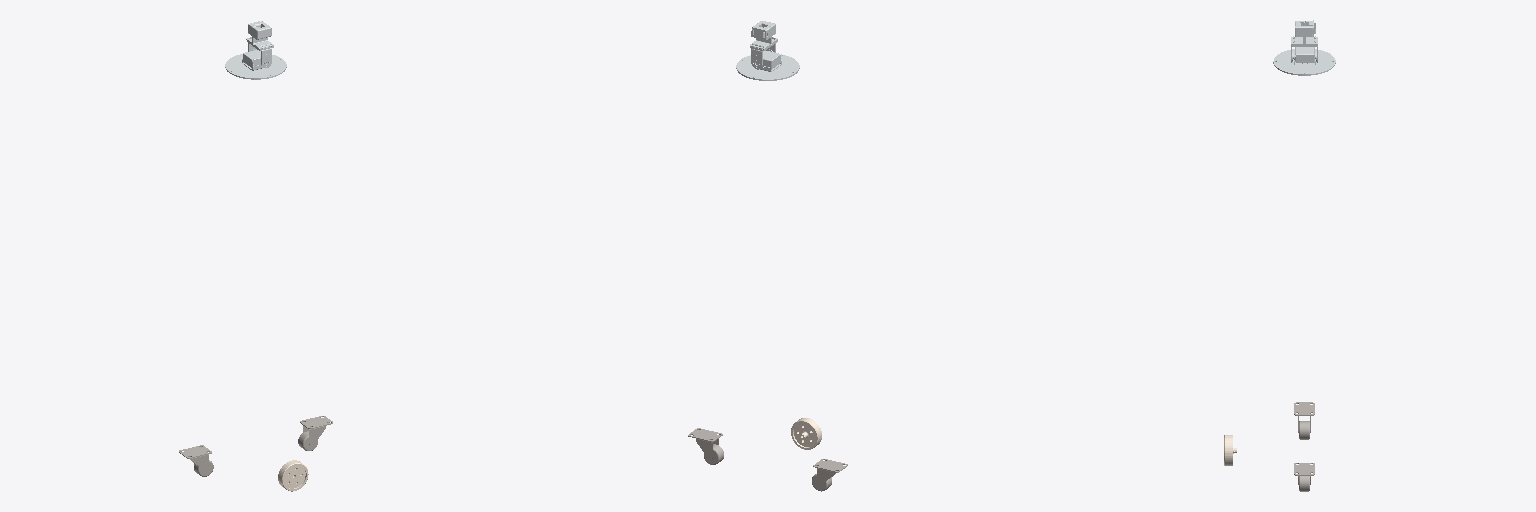
The robot description file, URDF, robot "stone_v3_base":
<robot
  name="stone_v3_base">
  <link
    name="base_link">
    <inertial>
      <origin
        xyz="-0.0011186 -4.317E-05 0.26842"
        rpy="0 0 0" />
      <mass
        value="9.7333" />
      <inertia
        ixx="0.86739"
        ixy="0"
        ixz="0"
        iyy="0.8309"
        iyz="0"
        izz="0.1541" />
    </inertial>
    <visual>
      <origin
        xyz="0 0 0"
        rpy="0 0 0" />
      <geometry>
        <mesh
          filename="package://handsfree_gazebo/urdf_stone_v3/meshes/base_link.STL" />
      </geometry>
      <material
        name="">
        <color
          rgba="0.33333 0.33333 0.33333 1" />
      </material>
    </visual>
    <collision>
      <origin
        xyz="0 0 0"
        rpy="0 0 0" />
      <geometry>
        <mesh
          filename="package://handsfree_gazebo/urdf_stone_v3/meshes/base_link.STL" />
      </geometry>
    </collision>
  </link>
  <link
    name="wheel_left_link">
    <inertial>
      <origin
        xyz="3.1631E-06 -7.2374E-08 -0.00032962"
        rpy="0 0 0" />
      <mass
        value="0.15338" />
      <inertia
        ixx="4.7342E-05"
        ixy="0"
        ixz="0"
        iyy="4.734E-05"
        iyz="0"
        izz="8.8619E-05" />
    </inertial>
    <visual>
      <origin
        xyz="0 0 0"
        rpy="0 0 0" />
      <geometry>
        <mesh
          filename="package://handsfree_gazebo/urdf_stone_v3/meshes/wheel_left_link.STL" />
      </geometry>
      <material
        name="">
        <color
          rgba="1 0.94902 0.89804 1" />
      </material>
    </visual>
    <collision>
      <origin
        xyz="0 0 0"
        rpy="0 0 0" />
      <geometry>
        <mesh
          filename="package://handsfree_gazebo/urdf_stone_v3/meshes/wheel_left_link.STL" />
      </geometry>
    </collision>
  </link>
  <joint
    name="wheel_left_joint"
    type="continuous">
    <origin
      xyz="0 0.1557 0.0124"
      rpy="-1.5708 0 0" />
    <parent
      link="base_link" />
    <child
      link="wheel_left_link" />
    <axis
      xyz="0 0 1" />
  </joint>
  <link
    name="wheel_right_link">
    <inertial>
      <origin
        xyz="-3.1631E-06 -7.2862E-08 -0.00032962"
        rpy="0 0 0" />
      <mass
        value="0.15338" />
      <inertia
        ixx="4.7342E-05"
        ixy="0"
        ixz="0"
        iyy="4.734E-05"
        iyz="0"
        izz="8.8619E-05" />
    </inertial>
    <visual>
      <origin
        xyz="0 0 0"
        rpy="0 0 0" />
      <geometry>
        <mesh
          filename="package://handsfree_gazebo/urdf_stone_v3/meshes/wheel_right_link.STL" />
      </geometry>
      <material
        name="">
        <color
          rgba="1 0.94902 0.89804 1" />
      </material>
    </visual>
    <collision>
      <origin
        xyz="0 0 0"
        rpy="0 0 0" />
      <geometry>
        <mesh
          filename="package://handsfree_gazebo/urdf_stone_v3/meshes/wheel_right_link.STL" />
      </geometry>
    </collision>
  </link>
  <joint
    name="wheel_right_joint"
    type="continuous">
    <origin
      xyz="0 -0.1557 0.0124"
      rpy="1.5708 0 0" />
    <parent
      link="base_link" />
    <child
      link="wheel_right_link" />
    <axis
      xyz="0 0 -1" />
  </joint>
  <link
    name="caster_front_link">
    <inertial>
      <origin
        xyz="0.0048088 0.0096311 8.3348E-16"
        rpy="0 0 0" />
      <mass
        value="0.29097" />
      <inertia
        ixx="0.00010851"
        ixy="0"
        ixz="0"
        iyy="7.011E-05"
        iyz="0"
        izz="0.00013847" />
    </inertial>
    <visual>
      <origin
        xyz="0 0 0"
        rpy="0 0 0" />
      <geometry>
        <mesh
          filename="package://handsfree_gazebo/urdf_stone_v3/meshes/caster_front_link.STL" />
      </geometry>
      <material
        name="">
        <color
          rgba="0.77647 0.75686 0.73725 1" />
      </material>
    </visual>
    <collision>
      <origin
        xyz="0 0 0"
        rpy="0 0 0" />
      <geometry>
        <mesh
          filename="package://handsfree_gazebo/urdf_stone_v3/meshes/caster_front_link.STL" />
      </geometry>
    </collision>
  </link>
  <joint
    name="caster_front_joint"
    type="floating">
    <origin
      xyz="0.126 0 -0.0006"
      rpy="1.5708 0 0" />
    <parent
      link="base_link" />
    <child
      link="caster_front_link" />
    <axis
      xyz="0 0 0" />
  </joint>
  <link
    name="caster_back_link">
    <inertial>
      <origin
        xyz="-0.0048088 0.0096311 8.3433E-16"
        rpy="0 0 0" />
      <mass
        value="0.29097" />
      <inertia
        ixx="0.00010851"
        ixy="0"
        ixz="0"
        iyy="7.011E-05"
        iyz="0"
        izz="0.00013847" />
    </inertial>
    <visual>
      <origin
        xyz="0 0 0"
        rpy="0 0 0" />
      <geometry>
        <mesh
          filename="package://handsfree_gazebo/urdf_stone_v3/meshes/caster_back_link.STL" />
      </geometry>
      <material
        name="">
        <color
          rgba="0.77647 0.75686 0.73725 1" />
      </material>
    </visual>
    <collision>
      <origin
        xyz="0 0 0"
        rpy="0 0 0" />
      <geometry>
        <mesh
          filename="package://handsfree_gazebo/urdf_stone_v3/meshes/caster_back_link.STL" />
      </geometry>
    </collision>
  </link>
  <joint
    name="caster_back_joint"
    type="floating">
    <origin
      xyz="-0.126 0 -0.0006"
      rpy="1.5708 0 0" />
    <parent
      link="base_link" />
    <child
      link="caster_back_link" />
    <axis
      xyz="0 0 0" />
  </joint>
  <link
    name="laser_link">
    <inertial>
      <origin
        xyz="-0.00012709 4.6538E-05 -0.011453"
        rpy="0 0 0" />
      <mass
        value="0.13632" />
      <inertia
        ixx="7.1499E-05"
        ixy="0"
        ixz="0"
        iyy="7.1883E-05"
        iyz="0"
        izz="4.6678E-05" />
    </inertial>
    <visual>
      <origin
        xyz="0 0 0"
        rpy="0 0 0" />
      <geometry>
        <mesh
          filename="package://handsfree_gazebo/urdf_stone_v3/meshes/laser_link.STL" />
      </geometry>
      <material
        name="">
        <color
          rgba="1 1 1 1" />
      </material>
    </visual>
    <collision>
      <origin
        xyz="0 0 0"
        rpy="0 0 0" />
      <geometry>
        <mesh
          filename="package://handsfree_gazebo/urdf_stone_v3/meshes/laser_link.STL" />
      </geometry>
    </collision>
  </link>
  <joint
    name="laser_joint"
    type="fixed">
    <origin
      xyz="0.145 0 0.14203"
      rpy="0 0 0" />
    <parent
      link="base_link" />
    <child
      link="laser_link" />
    <axis
      xyz="0 0 0" />
  </joint>
  <link
    name="yaw_link">
    <inertial>
      <origin
        xyz="8.5422E-05 0.0001613 0.0023545"
        rpy="0 0 0" />
      <mass
        value="0.15082" />
      <inertia
        ixx="0.00012558"
        ixy="0"
        ixz="0"
        iyy="0.00012402"
        iyz="0"
        izz="0.00023372" />
    </inertial>
    <visual>
      <origin
        xyz="0 0 0"
        rpy="0 0 0" />
      <geometry>
        <mesh
          filename="package://handsfree_gazebo/urdf_stone_v3/meshes/yaw_link.STL" />
      </geometry>
      <material
        name="">
        <color
          rgba="0.89804 0.91765 0.92941 1" />
      </material>
    </visual>
    <collision>
      <origin
        xyz="0 0 0"
        rpy="0 0 0" />
      <geometry>
        <mesh
          filename="package://handsfree_gazebo/urdf_stone_v3/meshes/yaw_link.STL" />
      </geometry>
    </collision>
  </link>
  <joint
    name="yaw_joint"
    type="revolute">
    <origin
      xyz="0 0 0.894"
      rpy="0 0 0" />
    <parent
      link="base_link" />
    <child
      link="yaw_link" />
    <axis
      xyz="0 0 1" />
    <limit
      effort="0"
      velocity="0" />
  </joint>
  <link
    name="pitch_link">
    <inertial>
      <origin
        xyz="-0.00024079 -0.041896 -9.1768E-05"
        rpy="0 0 0" />
      <mass
        value="0.06208" />
      <inertia
        ixx="4.7571E-05"
        ixy="0"
        ixz="0"
        iyy="2.3344E-05"
        iyz="0"
        izz="3.516E-05" />
    </inertial>
    <visual>
      <origin
        xyz="0 0 0"
        rpy="0 0 0" />
      <geometry>
        <mesh
          filename="package://handsfree_gazebo/urdf_stone_v3/meshes/pitch_link.STL" />
      </geometry>
      <material
        name="">
        <color
          rgba="0.89804 0.91765 0.92941 1" />
      </material>
    </visual>
    <collision>
      <origin
        xyz="0 0 0"
        rpy="0 0 0" />
      <geometry>
        <mesh
          filename="package://handsfree_gazebo/urdf_stone_v3/meshes/pitch_link.STL" />
      </geometry>
    </collision>
  </link>
  <joint
    name="pitch_joint"
    type="revolute">
    <origin
      xyz="0.01 5E-05 0.01475"
      rpy="-1.5708 0 0" />
    <parent
      link="yaw_link" />
    <child
      link="pitch_link" />
    <axis
      xyz="0 0 1" />
    <limit
      effort="0"
      velocity="0" />
  </joint>
  <link
    name="xtion_link">
    <inertial>
      <origin
        xyz="-0.017766 1.5798E-06 -0.00017508"
        rpy="0 0 0" />
      <mass
        value="0.15757" />
      <inertia
        ixx="0.00039792"
        ixy="0"
        ixz="0"
        iyy="2.4687E-05"
        iyz="0"
        izz="0.00040604" />
    </inertial>
    <visual>
      <origin
        xyz="0 0 0"
        rpy="0 0 0" />
      <geometry>
        <mesh
          filename="package://handsfree_gazebo/urdf_stone_v3/meshes/xtion_link.STL" />
      </geometry>
      <material
        name="">
        <color
          rgba="0.33333 0.33333 0.33333 1" />
      </material>
    </visual>
    <collision>
      <origin
        xyz="0 0 0"
        rpy="0 0 0" />
      <geometry>
        <mesh
          filename="package://handsfree_gazebo/urdf_stone_v3/meshes/xtion_link.STL" />
      </geometry>
    </collision>
  </link>
  <joint
    name="xtion_joint"
    type="fixed">
    <origin
      xyz="0.0181 -0.08706 0.00011573"
      rpy="1.5708 0 0" />
    <parent
      link="pitch_link" />
    <child
      link="xtion_link" />
    <axis
      xyz="0 0 0" />
  </joint>
</robot>

--- Render facts (derived) ---
3 views of the same robot in one strip: view 1: azimuth 30°, elevation 25°; view 2: azimuth 150°, elevation 25°; view 3: azimuth 270°, elevation 25° (orthographic).
Robot: stone_v3_base — 9 links, 8 joints (2 revolute, 2 continuous, 2 fixed, 2 floating); root link base_link; default pose: every joint at zero.
Visible links, largest first — view 1: yaw_link, pitch_link, wheel_right_link, caster_front_link, caster_back_link; view 2: yaw_link, pitch_link, wheel_right_link, caster_front_link, caster_back_link; view 3: yaw_link, pitch_link.
Boxes of the visible links, bbox=[...] form: yaw_link: bbox=[225, 50, 286, 79]; pitch_link: bbox=[246, 21, 273, 67]; wheel_right_link: bbox=[278, 460, 308, 491]; caster_front_link: bbox=[298, 416, 332, 450]; caster_back_link: bbox=[179, 445, 213, 476]; yaw_link: bbox=[736, 51, 799, 80]; pitch_link: bbox=[750, 21, 777, 69]; wheel_right_link: bbox=[791, 418, 821, 449]; caster_front_link: bbox=[688, 428, 723, 464]; caster_back_link: bbox=[812, 459, 847, 491]; yaw_link: bbox=[1273, 47, 1335, 75]; pitch_link: bbox=[1291, 20, 1317, 62].
Bounding box of the posed robot: 0.352 × 0.2286 × 1 m (x, y, z).
5 mesh visuals loaded from 9 distinct referenced files (5 binary STL); not drawn: 4 (reference not matched to a file when rendering).
